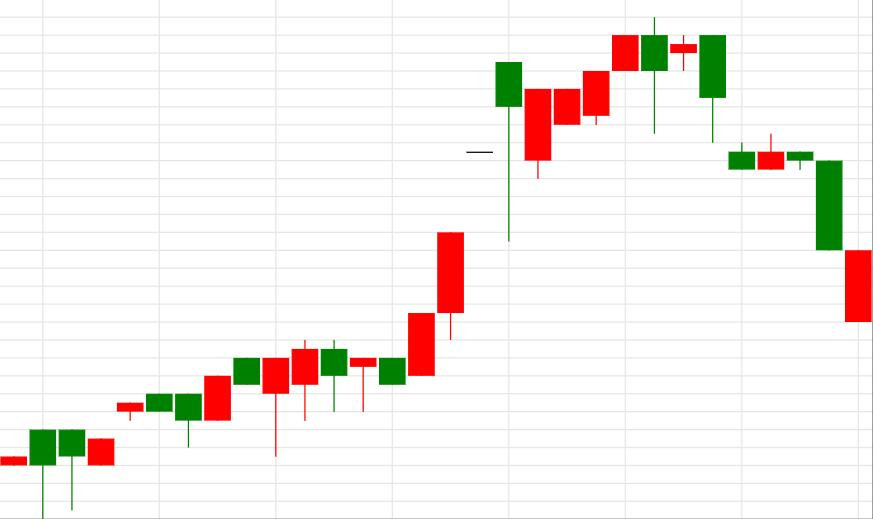hanging_man_fall: (350, 62, 522, 412)
